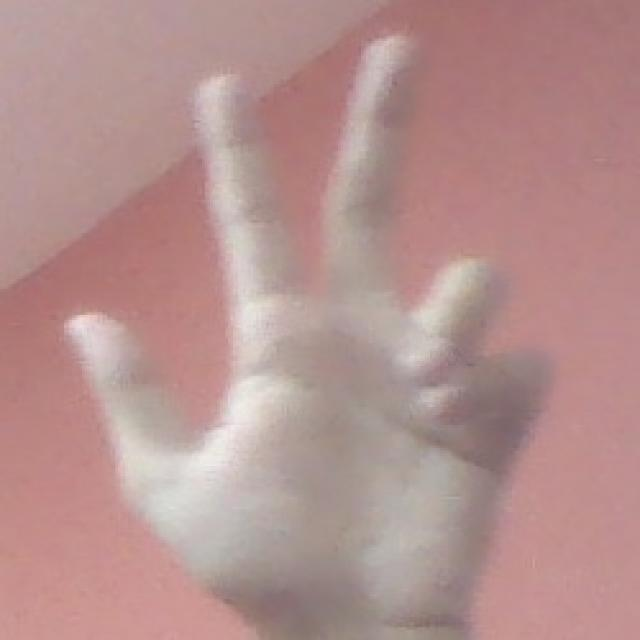Numeric-3: (68, 34, 547, 624)
